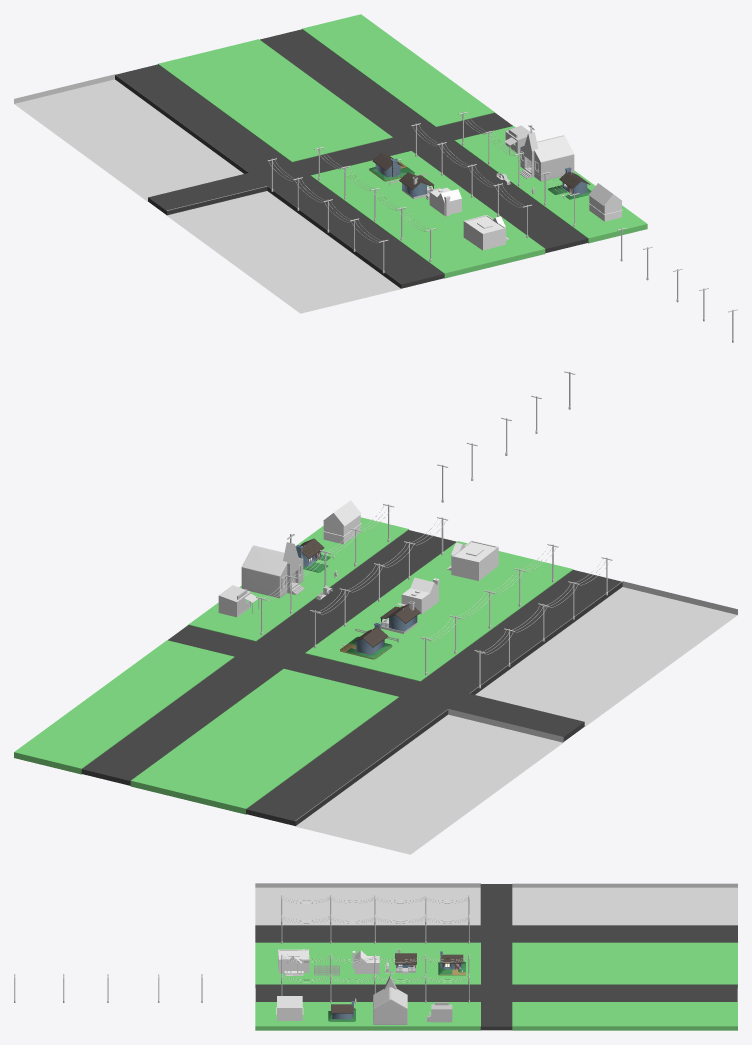
File: Town.glb
The picture shows the model from 3 angles, top to bottom: view 1: azimuth 30°, elevation 25°; view 2: azimuth 150°, elevation 25°; view 3: azimuth 270°, elevation 25°; orthographic projection. The views are drawn at different scales.
Parts seen in each view (by area): view 1: Plane.022, Plane.052, Plane.016, Plane.054, Plane.053, church, building1_9, building1_4, Cylinder.004, Cylinder.012, building3_3, NurbsCurve.001 (+1 smaller); view 2: Plane.022, Plane.052, Plane.016, Plane.053, Plane.054, church, building1_9, building1_4, Cylinder.012, Cylinder.004, building3_3, NurbsCurve.009 (+1 smaller); view 3: Plane.022, Plane.052, Plane.016, Plane.053, Plane.054, church, NurbsCurve.001, NurbsCurve.009, building1_9, building1_4, building3_3, Cylinder.004 (+5 smaller).
Boxes of the visible parts, left/top/right/bottom form: Plane.022: left=115, top=29, right=587, bottom=288; Plane.052: left=158, top=14, right=494, bottom=162; Plane.016: left=310, top=126, right=647, bottom=278; Plane.054: left=166, top=186, right=400, bottom=313; Plane.053: left=14, top=74, right=248, bottom=201; church: left=520, top=135, right=574, bottom=181; building1_9: left=463, top=215, right=509, bottom=250; building1_4: left=588, top=183, right=622, bottom=221; Cylinder.004: left=267, top=147, right=435, bottom=273; Cylinder.012: left=411, top=111, right=579, bottom=238; building3_3: left=429, top=187, right=461, bottom=216; NurbsCurve.001: left=269, top=148, right=429, bottom=243; Plane.022: left=81, top=530, right=622, bottom=825; Plane.052: left=14, top=640, right=398, bottom=814; Plane.016: left=188, top=517, right=573, bottom=681; Plane.053: left=295, top=709, right=563, bottom=854; Plane.054: left=469, top=581, right=737, bottom=726; church: left=241, top=545, right=303, bottom=598; building1_9: left=447, top=540, right=498, bottom=580; building1_4: left=322, top=500, right=361, bottom=544; Cylinder.012: left=256, top=503, right=447, bottom=648; Cylinder.004: left=420, top=544, right=612, bottom=688; building3_3: left=401, top=577, right=439, bottom=614; NurbsCurve.009: left=257, top=505, right=446, bottom=614; Plane.022: left=255, top=884, right=737, bottom=1030; Plane.052: left=512, top=942, right=737, bottom=1030; Plane.016: left=255, top=942, right=480, bottom=1030; Plane.053: left=512, top=883, right=737, bottom=925; Plane.054: left=255, top=883, right=480, bottom=925; church: left=373, top=987, right=407, bottom=1024; NurbsCurve.001: left=282, top=896, right=468, bottom=923; NurbsCurve.009: left=282, top=955, right=468, bottom=982; building1_9: left=278, top=949, right=309, bottom=975; building1_4: left=276, top=996, right=303, bottom=1020; building3_3: left=352, top=950, right=379, bottom=973; Cylinder.004: left=281, top=895, right=469, bottom=943.
Size of what is drawn, in the model's own units: 107 by 15.81 by 229.
